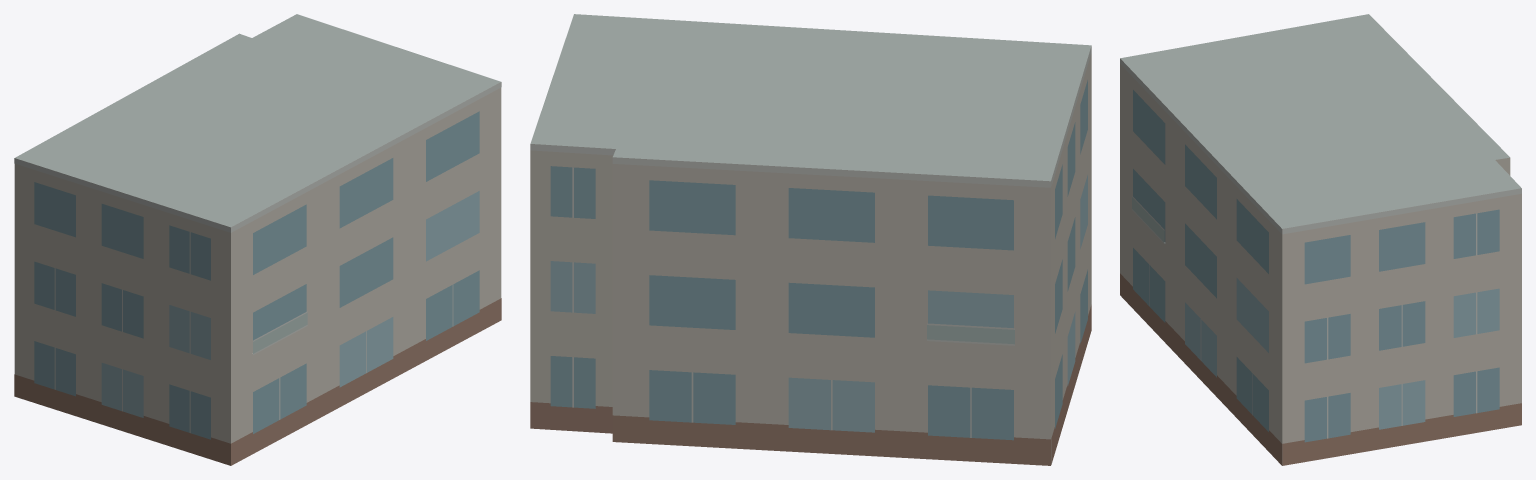
File: survey-upis-32856129.glb
3 views of the same model, side by side, from view 1: azimuth 30°, elevation 25°; view 2: azimuth 150°, elevation 25°; view 3: azimuth 270°, elevation 25° (orthographic). The views are drawn at different scales.
Visible parts, largest first — view 1: survey-upis-32856129.tmp; view 2: survey-upis-32856129.tmp; view 3: survey-upis-32856129.tmp.
Part boxes in pixels (x1,y1,x2,y2): survey-upis-32856129.tmp: (14, 14, 501, 465); survey-upis-32856129.tmp: (530, 14, 1091, 465); survey-upis-32856129.tmp: (1120, 14, 1521, 465).
Size of the model in its own units: 20.49 by 10.53 by 16.19.
